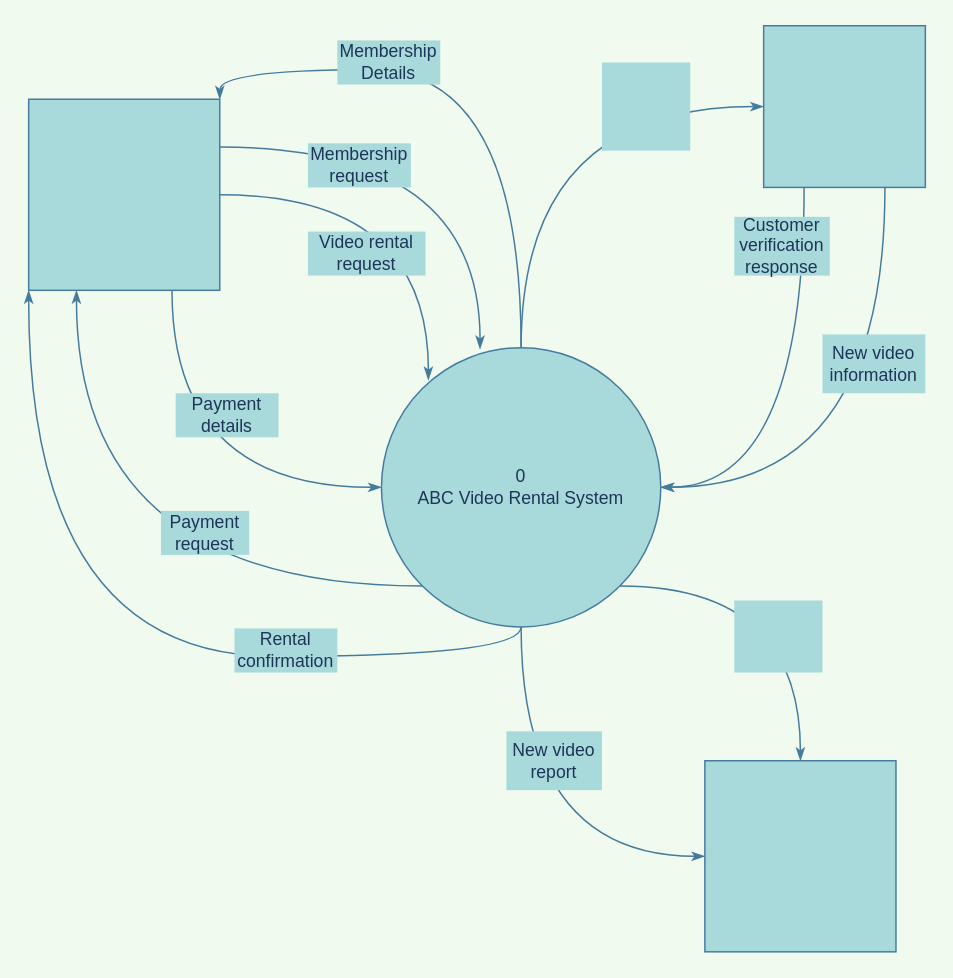
Some shapes in this 953 by 978 pixel diagram are drawn without their labels. The centre of each missing label's shape, as x and y in pixels:
"Customer" belongs at (x=123, y=194).
"Customer information verification request" belongs at (x=645, y=106).
"Overdue videos report" belongs at (x=778, y=636).
"Store Assistant" belongs at (x=843, y=105).
"Store Manager" belongs at (x=799, y=855).
